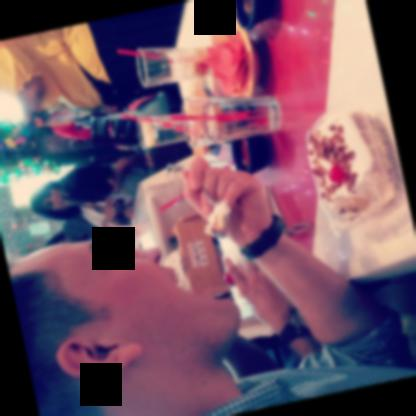handbag: (63, 161, 115, 202)
